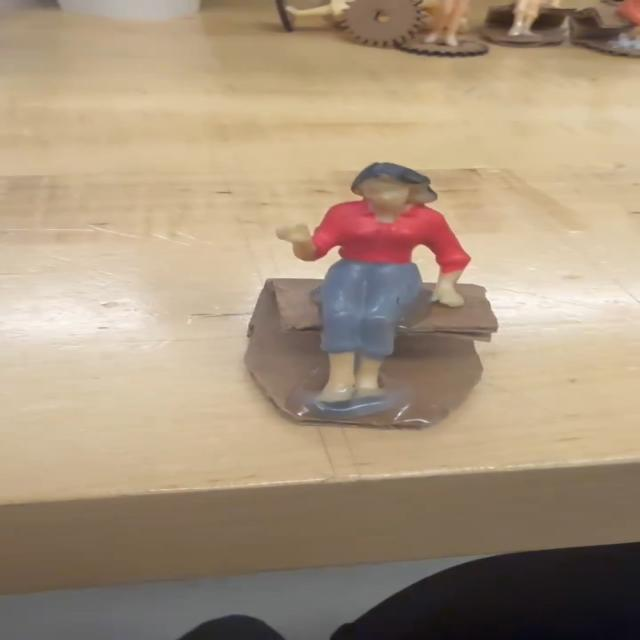Authorized: (167, 148, 505, 439)
